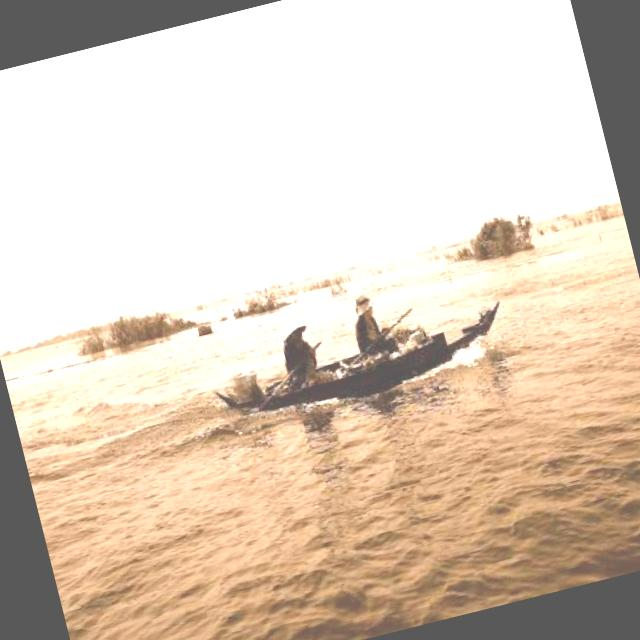Person: (345, 286, 398, 362), (274, 315, 326, 389)
